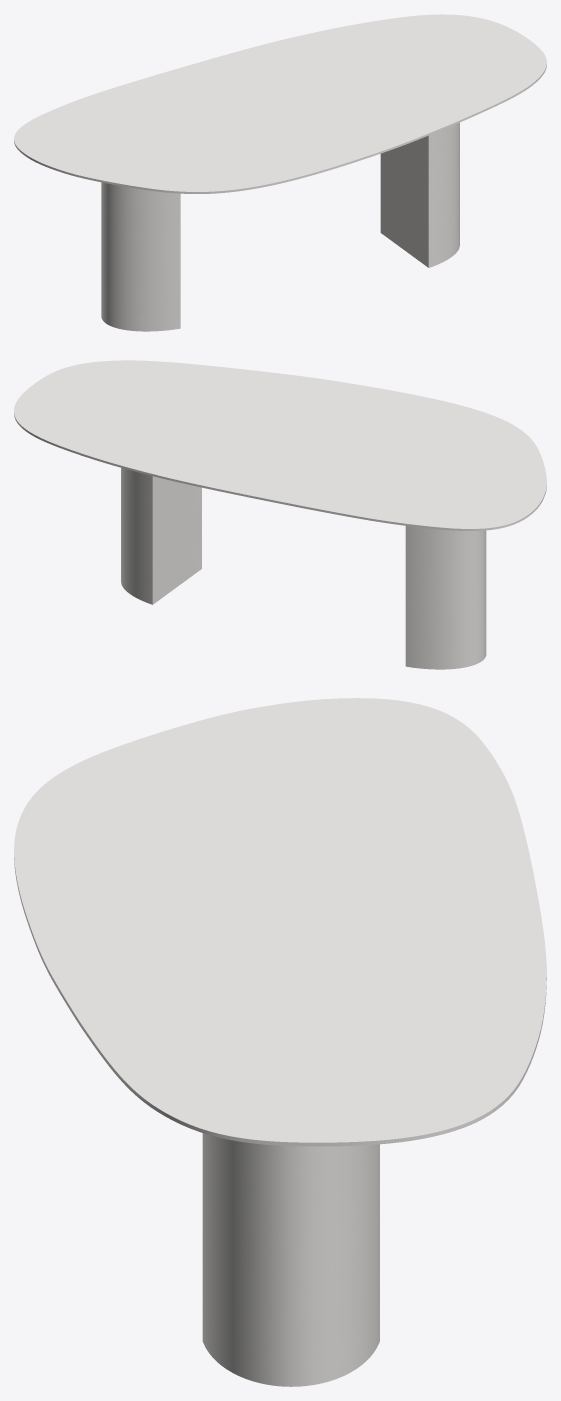
The model's file is purewhite_leaf2_facet_hillside.glb.
3 renders of one model, top to bottom at view 1: azimuth 30°, elevation 25°; view 2: azimuth 150°, elevation 25°; view 3: azimuth 270°, elevation 25°, orthographic. The views are drawn at different scales.
Parts seen in each view (by area): view 1: facet_leaf2, hillside; view 2: facet_leaf2, hillside; view 3: facet_leaf2, hillside.
Boxes of the visible parts, x1=… form: facet_leaf2: x1=14, y1=14, x2=546, y2=193; hillside: x1=101, y1=122, x2=459, y2=331; facet_leaf2: x1=14, y1=360, x2=546, y2=530; hillside: x1=121, y1=468, x2=486, y2=669; facet_leaf2: x1=14, y1=698, x2=546, y2=1146; hillside: x1=202, y1=1133, x2=379, y2=1386.
Size of the model in its own units: 7.5 by 2.5 by 3.8.
1 material, 1 textured.
